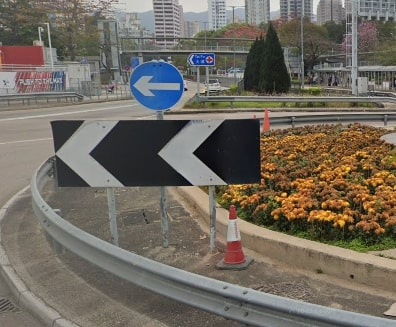Turn Left: (124, 56, 186, 114)
Turn Left(quick): (52, 116, 263, 186)
